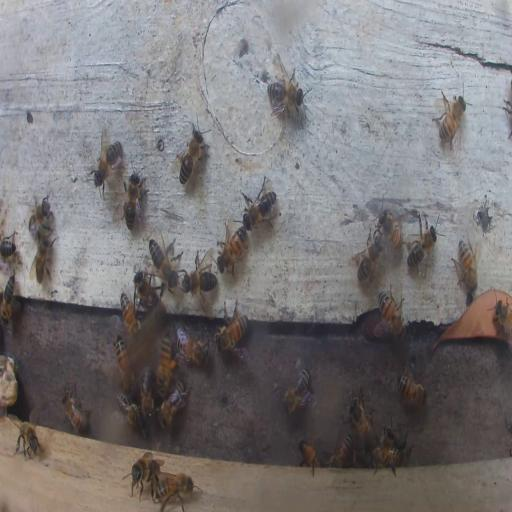bee: (172, 117, 208, 188), (347, 225, 387, 284), (406, 212, 440, 278), (433, 91, 468, 152), (265, 68, 307, 117), (92, 129, 123, 195), (147, 233, 183, 289), (242, 177, 277, 233), (186, 250, 218, 308), (279, 366, 314, 414), (218, 222, 248, 276), (129, 452, 162, 498), (154, 474, 193, 512), (215, 305, 247, 350), (346, 394, 375, 442), (158, 382, 190, 425), (377, 286, 404, 336), (31, 232, 56, 285), (123, 170, 145, 230), (176, 325, 208, 365), (62, 389, 90, 434), (156, 336, 176, 399), (13, 416, 41, 460), (456, 239, 478, 293), (134, 270, 160, 312), (115, 394, 145, 430), (114, 334, 132, 392), (322, 435, 354, 467), (381, 208, 403, 252), (398, 371, 427, 404), (120, 292, 141, 337), (28, 197, 52, 234), (1, 273, 16, 329), (368, 447, 402, 471), (491, 300, 512, 338), (299, 441, 320, 472), (141, 368, 154, 416), (1, 234, 17, 260), (376, 432, 394, 452)
